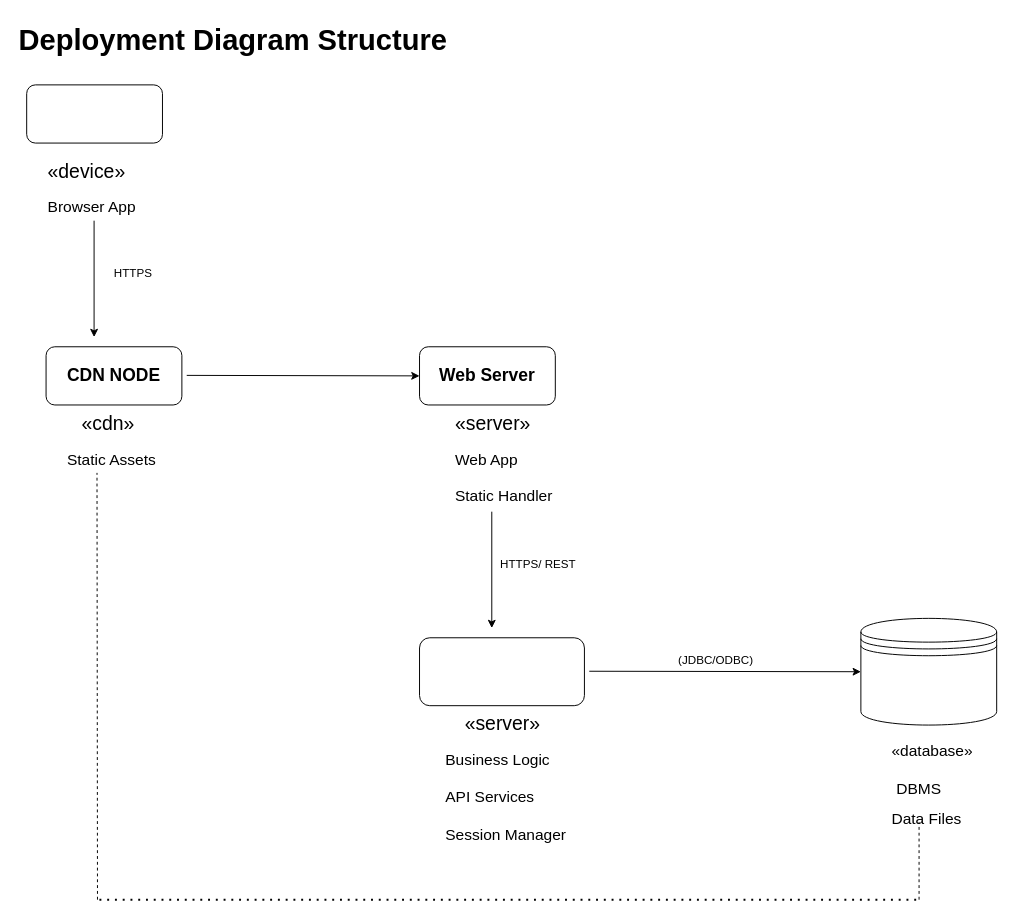
Some shapes in this 1014 by 918 pixel diagram are drawn without their labels. The centre of each missing label's shape, as x and y in pixels:
Application Server: point 501,671
Client Device: point 94,113
